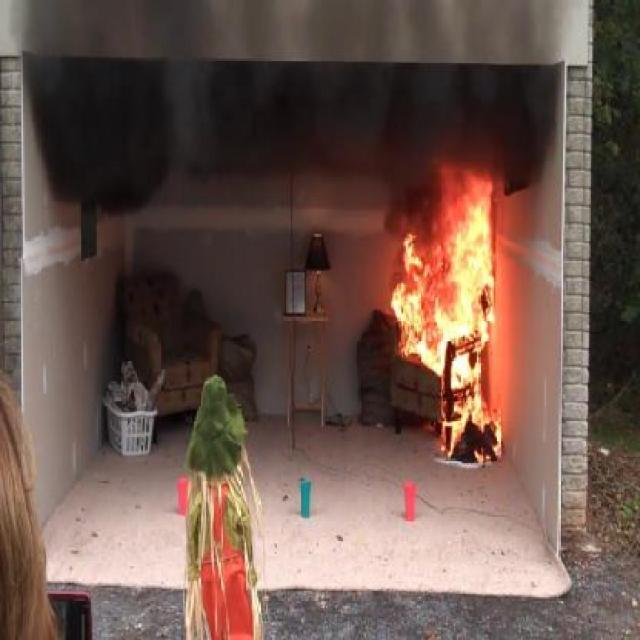fire: (372, 197, 514, 476)
smoke: (33, 26, 552, 200)
